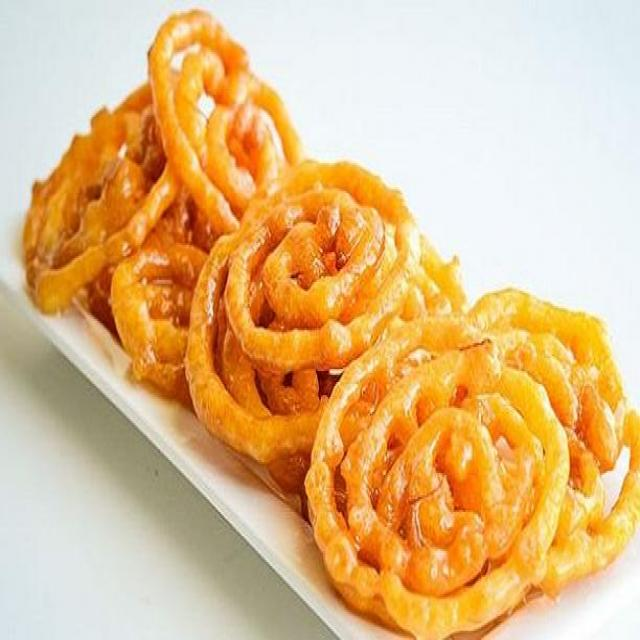jalebi: (32, 18, 626, 630)
